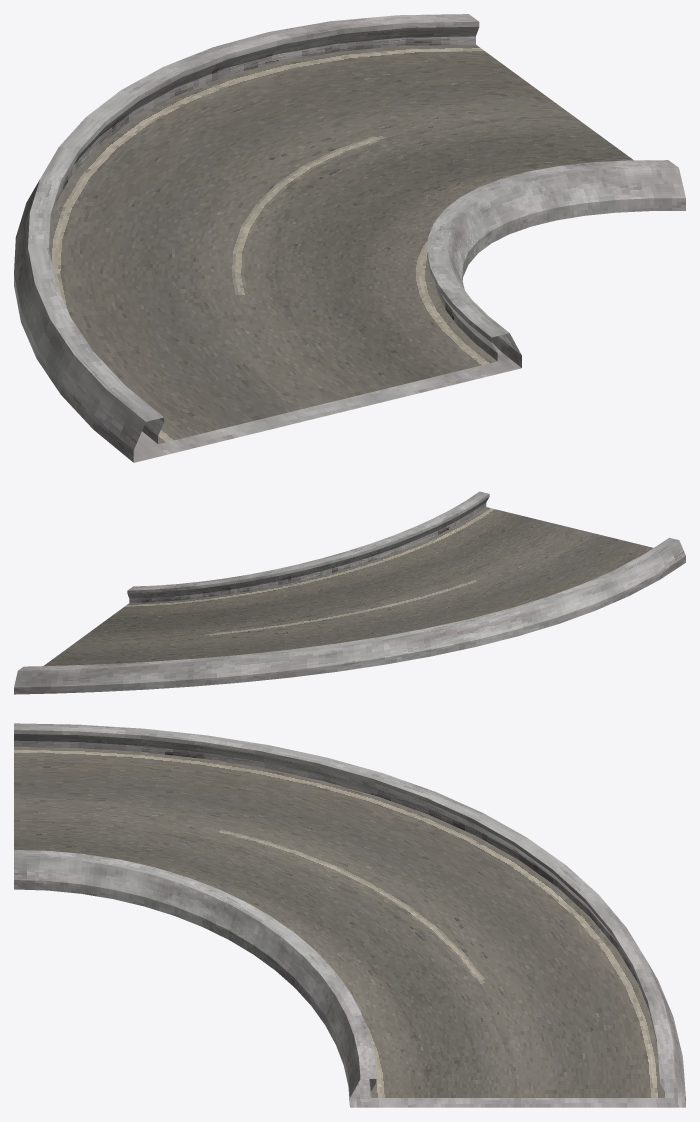
File: turn-right2x2.glb
The picture shows the model from 3 angles, top to bottom: view 1: azimuth 30°, elevation 25°; view 2: azimuth 150°, elevation 25°; view 3: azimuth 270°, elevation 25°; orthographic projection. The views are drawn at different scales.
Parts seen in each view (by area): view 1: road-Turn-Flat-BiSlopeDown-Down1-Right-Size2; view 2: road-Turn-Flat-BiSlopeDown-Down1-Right-Size2; view 3: road-Turn-Flat-BiSlopeDown-Down1-Right-Size2.
Part boxes in pixels (box(x1,y1,x2,y2)): road-Turn-Flat-BiSlopeDown-Down1-Right-Size2: box(14, 14, 685, 462); road-Turn-Flat-BiSlopeDown-Down1-Right-Size2: box(14, 491, 685, 694); road-Turn-Flat-BiSlopeDown-Down1-Right-Size2: box(14, 723, 685, 1107).
Size of the model in its own units: 2 by 0.3441 by 2.
Materials: 2 (2 with a texture image).
